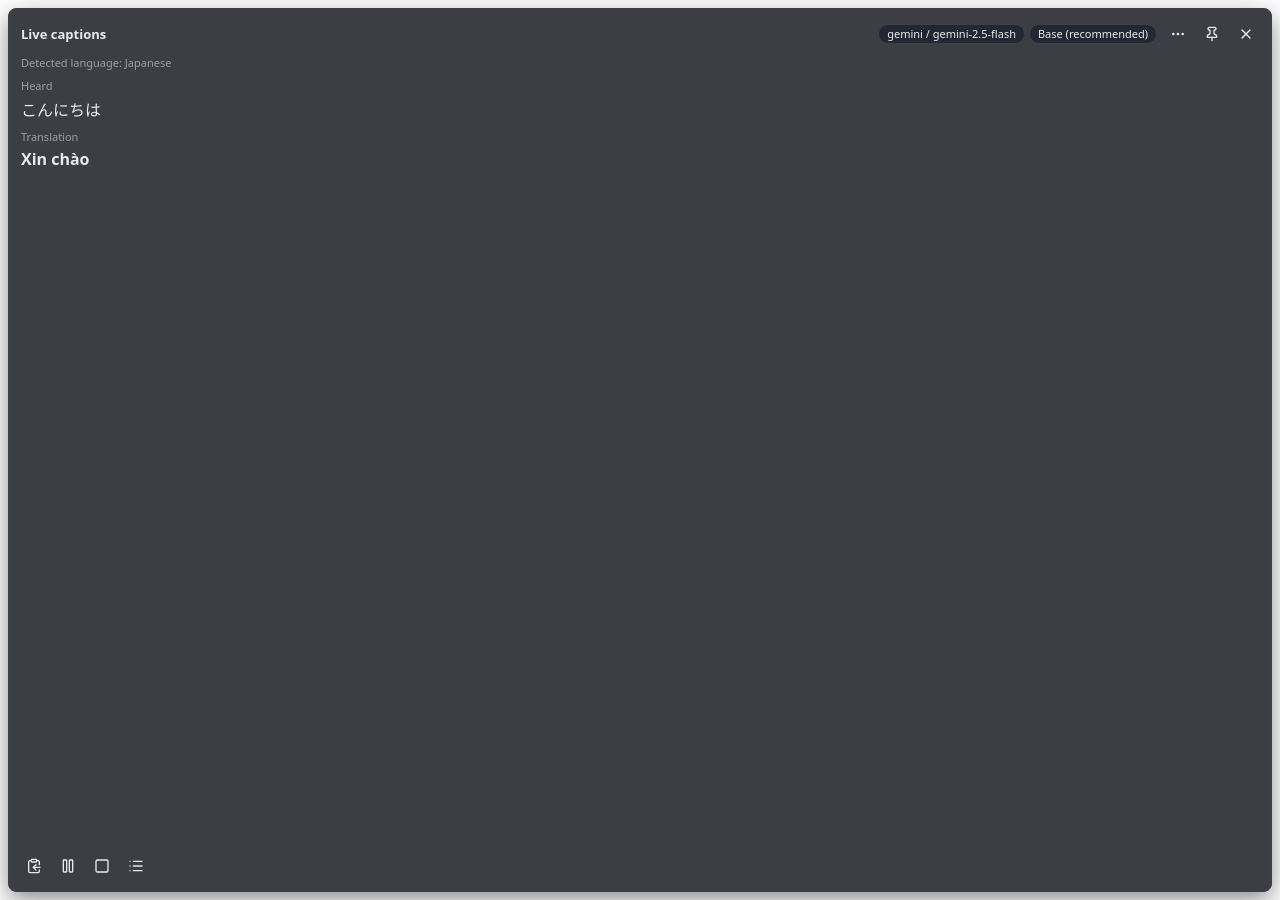
Test: CaptionOverlayView - latency readout (owner-reported: processing feels slow) › shows a small, unobtrusive per-stage timing hint behind the more-options popover
Click the button named "More options".
click(1178, 34)  # box 1165,21 -> 1191,47
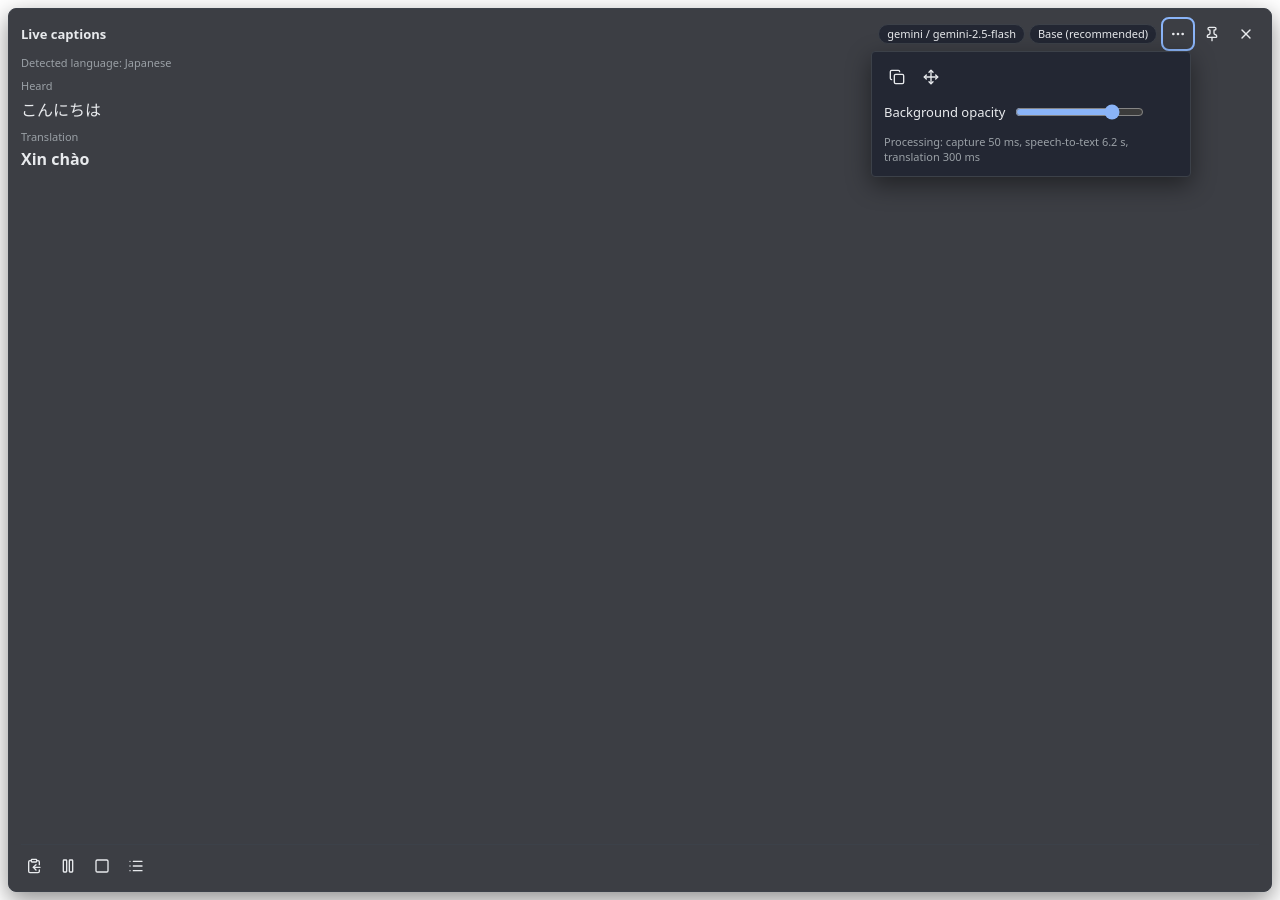
Now the text "Processing: capture 50 ms, speech-to-text 6.2 s, translation 300 ms" is shown, box 884,134 -> 1128,164
